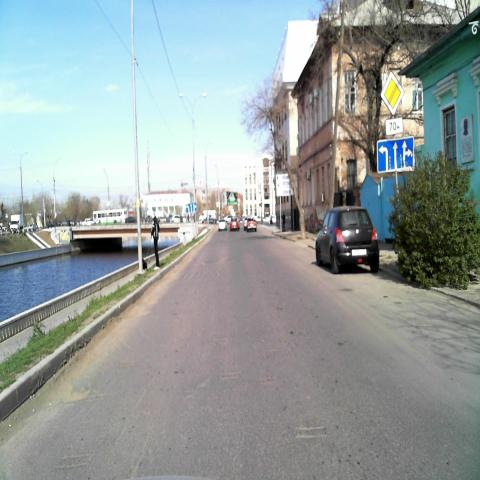2_2: (380, 68, 405, 116)
8_1_1: (386, 118, 404, 134)
